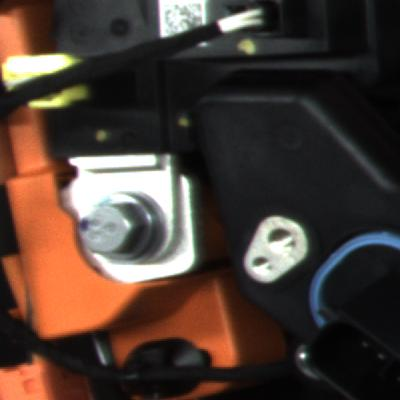nut_b: (67, 185, 177, 278)
